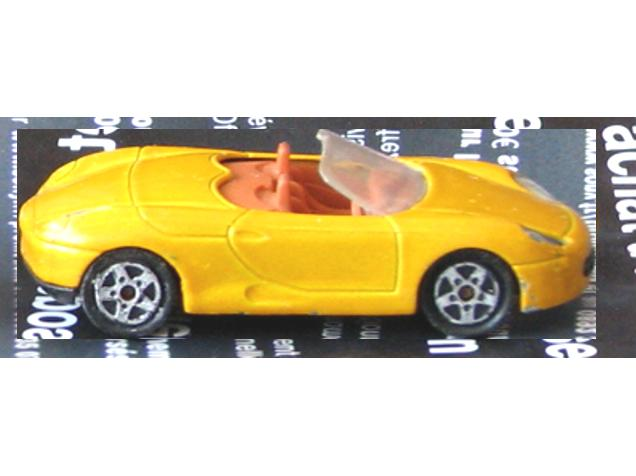toy-car: (18, 130, 597, 340)
